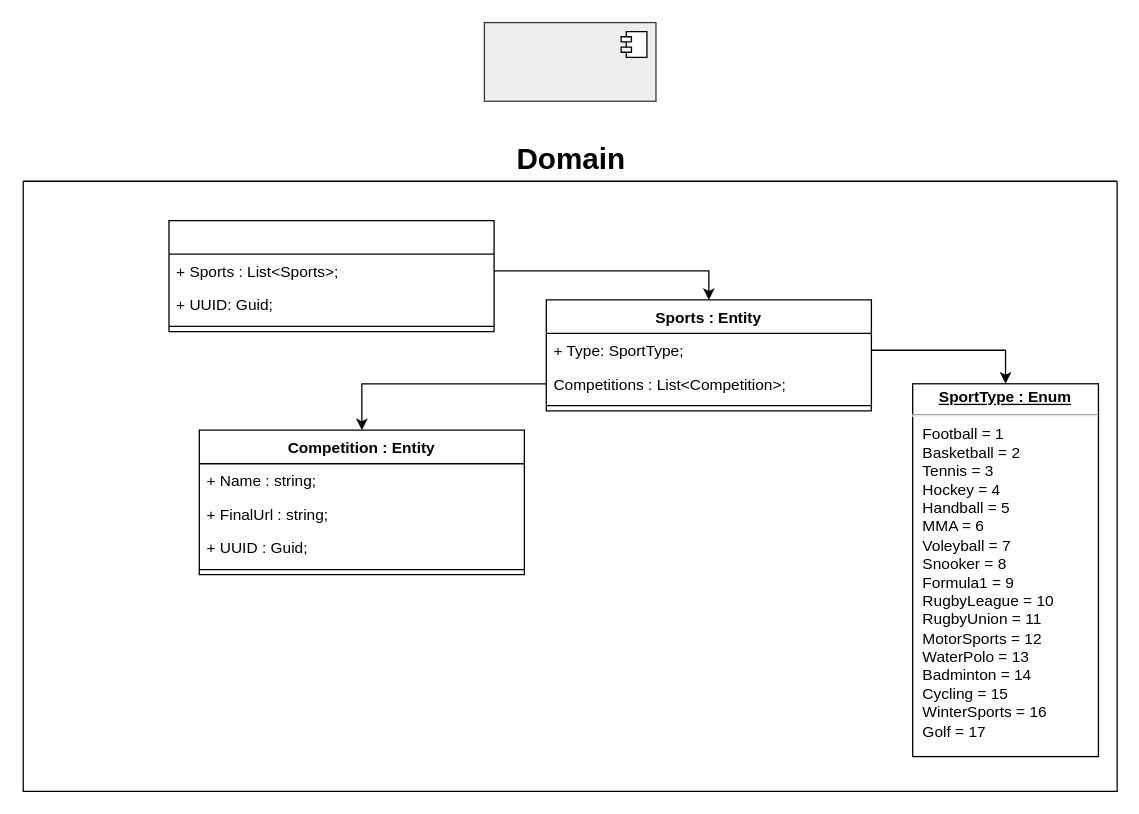
Some shapes in this 1139 by 814 pixel diagram are drawn without their labels. The shapes that lost their labels are listed below. From the top down, each one's box as (x1, y1, x2, y2) in pixels, then its label:
(483, 21, 656, 101): Bookmaker Integration
(168, 219, 494, 332): Bookmaker: Aggregate Root
